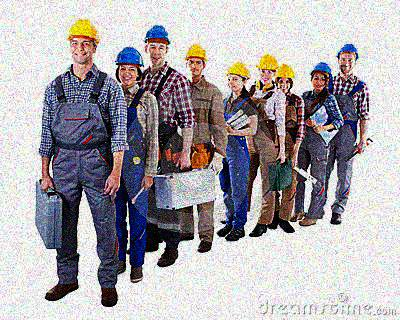helmet: (66, 17, 99, 66), (114, 46, 144, 86), (144, 24, 171, 64), (185, 44, 209, 78), (336, 43, 361, 73), (226, 62, 251, 91), (308, 60, 332, 89), (275, 63, 296, 93), (257, 54, 277, 82)
